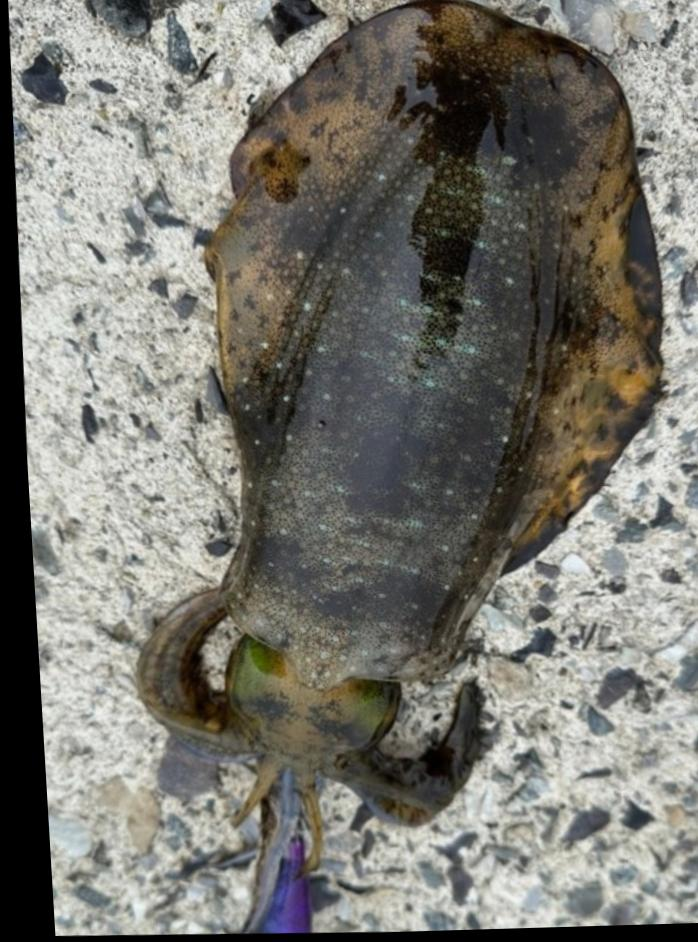Cephalopod: (127, 0, 657, 872)
